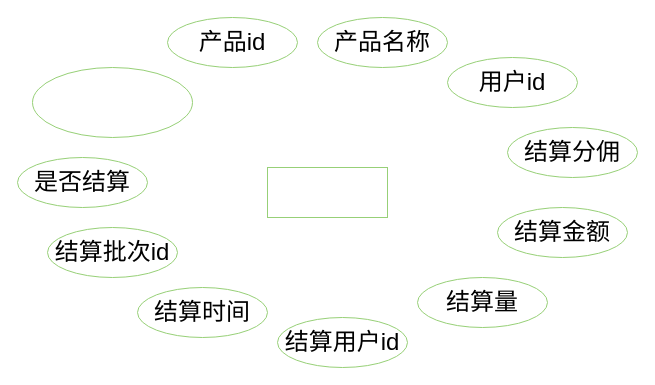
The diagram is 655 pixels wide and 385 high, and some of its shapes have lost their labels. Here are the shapes that lost their labels. From the top down, the centre of each, then its label:
At pixel 112 102: "父结算批次id".
At pixel 327 192: "结算".
